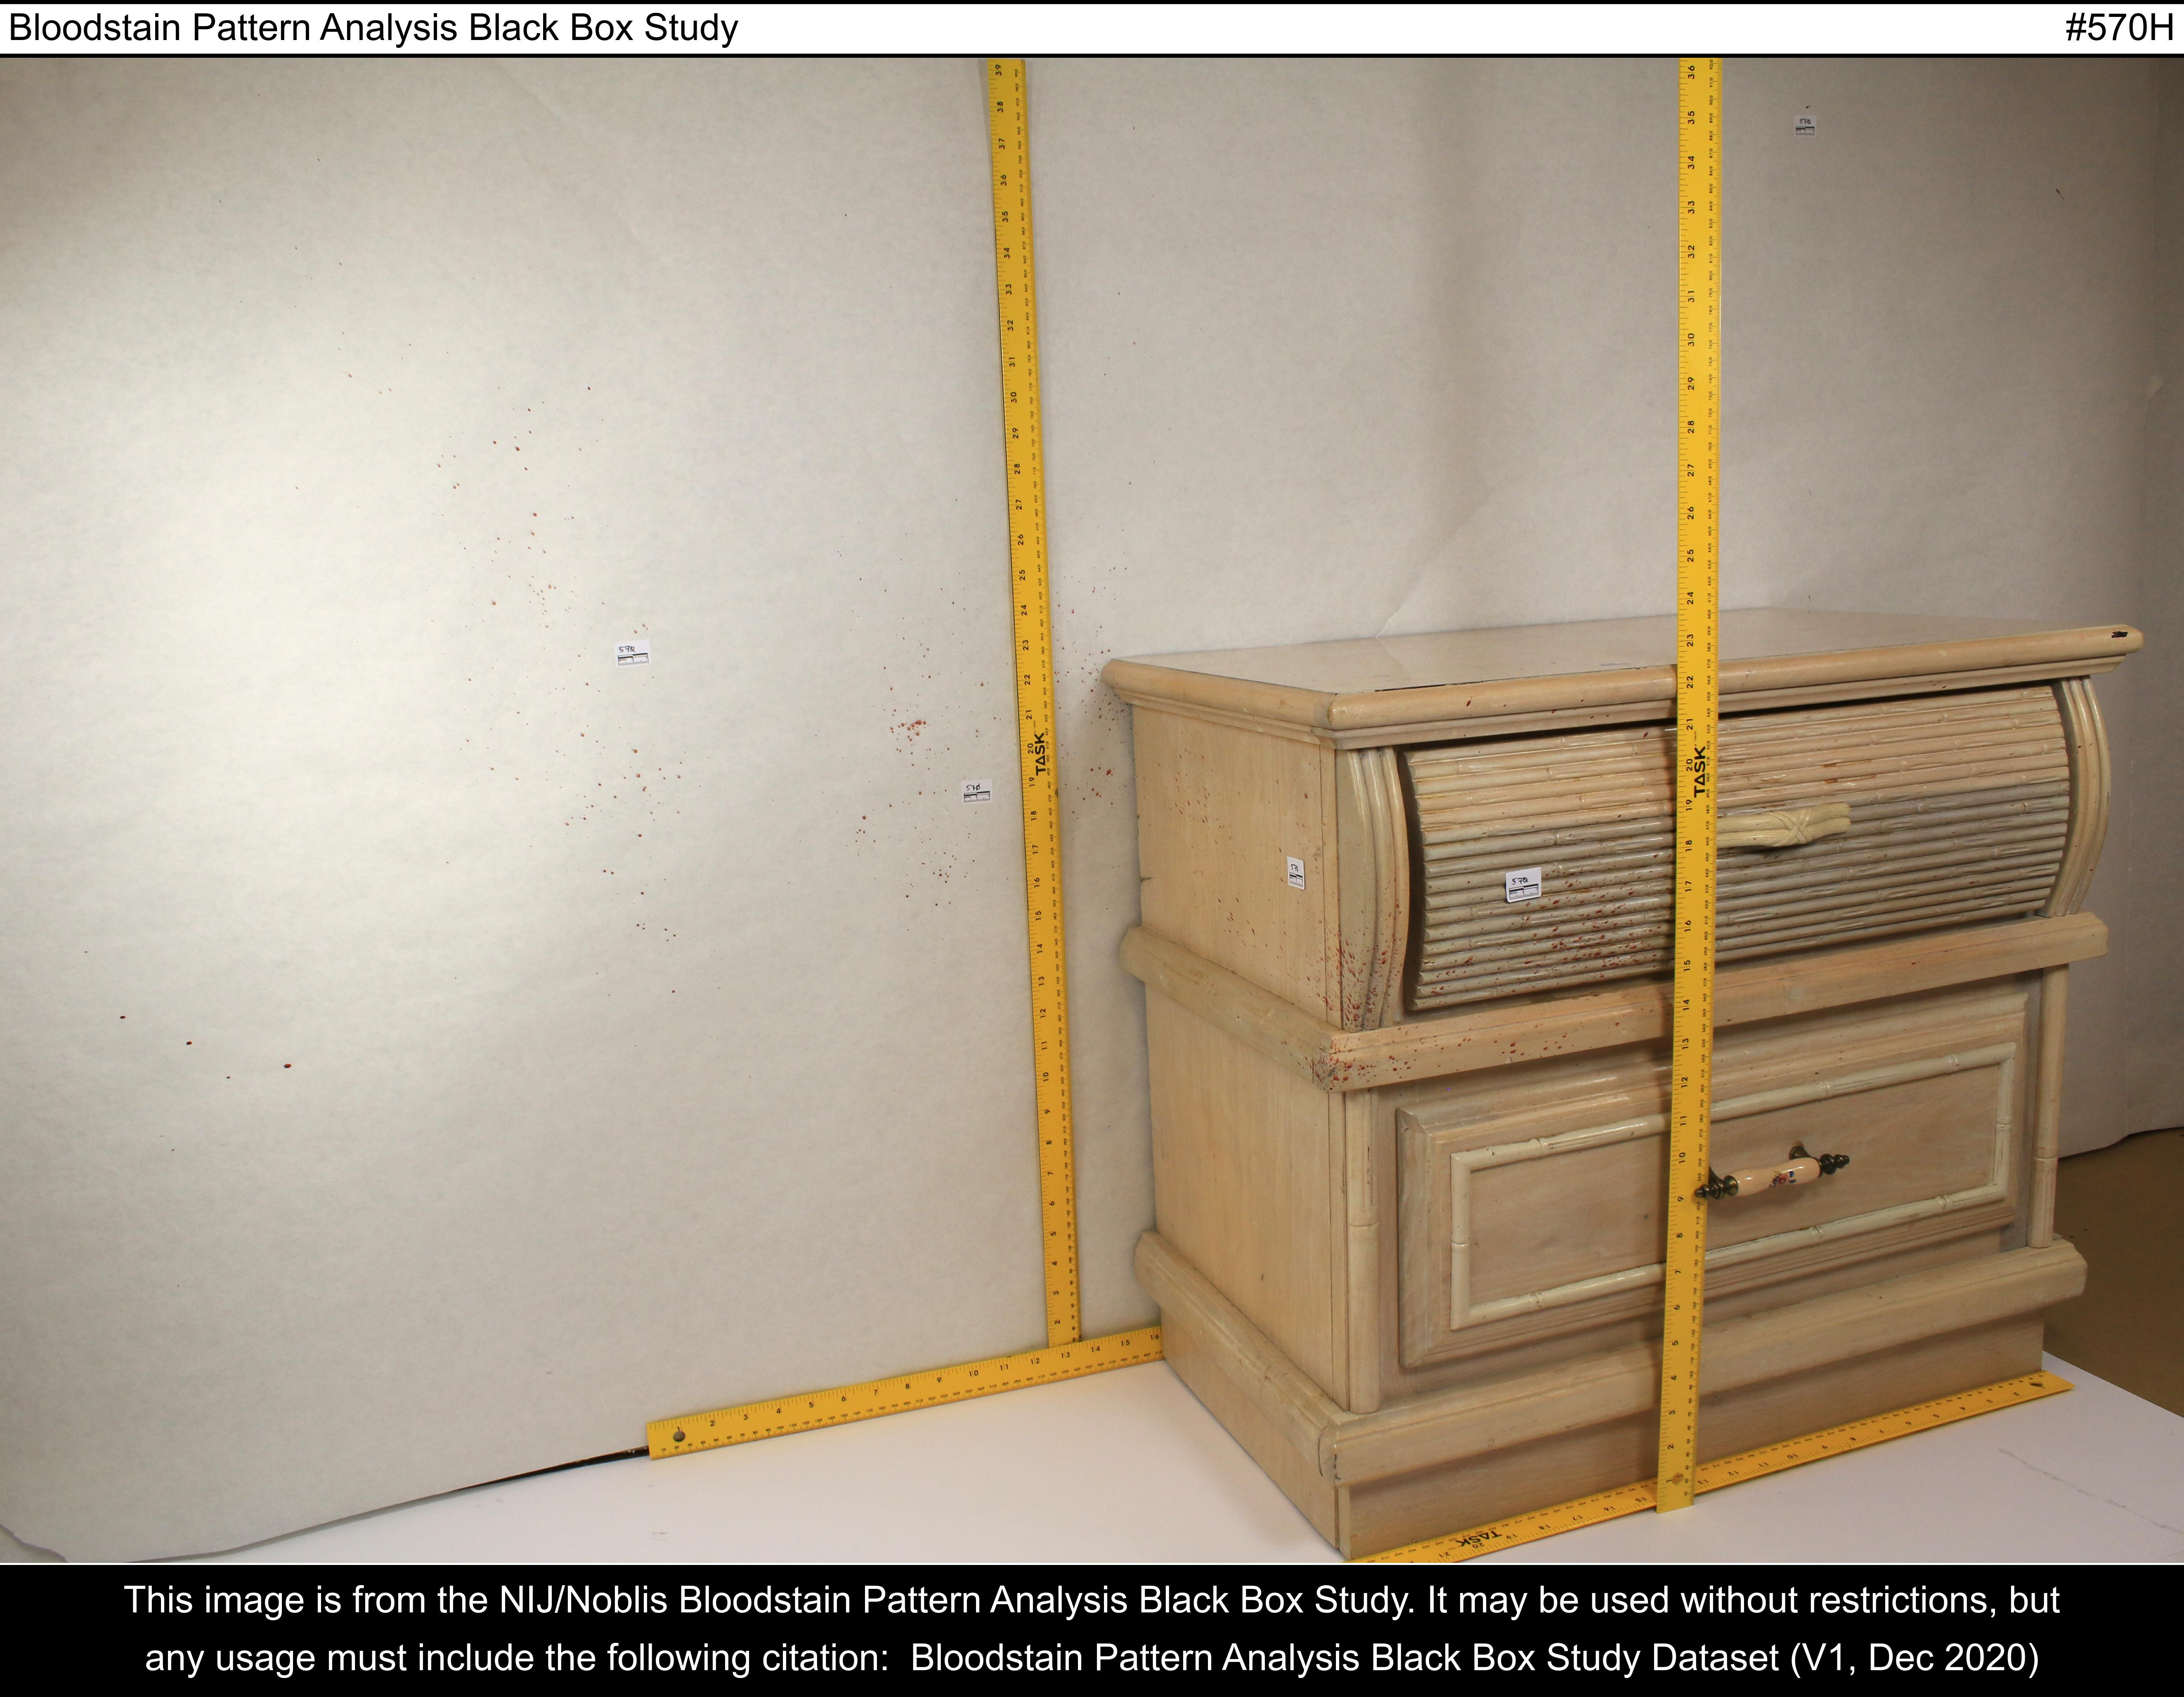Impact: (498, 569, 979, 1049), (1158, 749, 1650, 1105)
